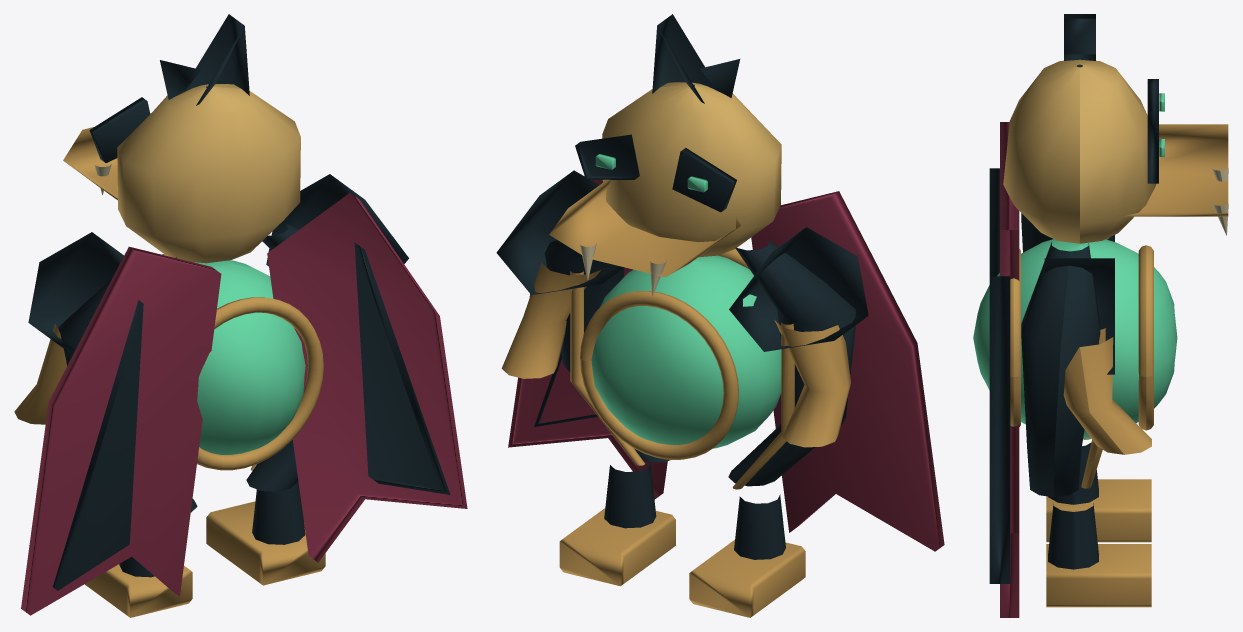
Rendered from count_duck.glb.
3 views of the same model, side by side, from view 1: azimuth 30°, elevation 25°; view 2: azimuth 150°, elevation 25°; view 3: azimuth 270°, elevation 25° (orthographic). The views are drawn at different scales.
Parts seen in each view (by area): view 1: Cloak (×2), DuckSkull, CloakShadow (×2), GlassCore, WebbedBoot (×2), ShoulderCrest (×2), GiltOrbRim, CrownFeather, MetalCuirass (×2), BootShin, WingGauntlet, EyeMask (+1 smaller); view 2: Cloak (×2), GlassCore, DuckSkull, WebbedBoot (×2), WingGauntlet (×2), ShoulderCrest (×2), MetalCuirass (×2), GiltOrbRim, Beak, BootShin (×2), EyeMask (×2), CrownFeather (+1 smaller); view 3: DuckSkull, MetalCuirass (×2), GlassCore, WebbedBoot (×2), CloakShadow (×2), Beak, WingGauntlet, GiltOrbRim (×2), Cloak (×2), BootShin (×2), ShoulderCrest, CrownFeather (+2 smaller).
Part boxes in pixels (x1,y1,x2,y2): Cloak (×2): (21,193,467,615); DuckSkull: (117,84,300,263); CloakShadow (×2): (53,242,450,590); GlassCore: (194,260,305,454); WebbedBoot (×2): (84,501,325,617); ShoulderCrest (×2): (28,174,408,350); GiltOrbRim: (197,297,323,470); CrownFeather: (160,14,249,105); MetalCuirass (×2): (58,224,298,512); BootShin: (252,481,305,544); WingGauntlet: (14,323,66,424); EyeMask: (89,97,150,162); Cloak (×2): (508,179,944,551); GlassCore: (591,255,781,448); DuckSkull: (602,82,781,257); WebbedBoot (×2): (559,508,805,617); WingGauntlet (×2): (501,263,850,447); ShoulderCrest (×2): (496,170,868,351); MetalCuirass (×2): (544,238,855,486); GiltOrbRim: (580,291,738,459); Beak: (549,179,740,277); BootShin (×2): (604,463,785,559); EyeMask (×2): (575,134,736,212); CrownFeather: (652,14,740,103); DuckSkull: (1003,59,1156,243); MetalCuirass (×2): (1021,213,1100,497); GlassCore: (973,239,1177,438); WebbedBoot (×2): (1046,479,1151,607); CloakShadow (×2): (989,168,1010,583); Beak: (1123,124,1228,216); WingGauntlet: (1063,337,1151,454); GiltOrbRim (×2): (1010,245,1153,430); Cloak (×2): (1000,122,1019,617); BootShin (×2): (1048,442,1098,569); ShoulderCrest: (1044,258,1114,374); CrownFeather: (1064,14,1095,67).
Size of the model in its own units: 1.58 by 1.92 by 0.801.
